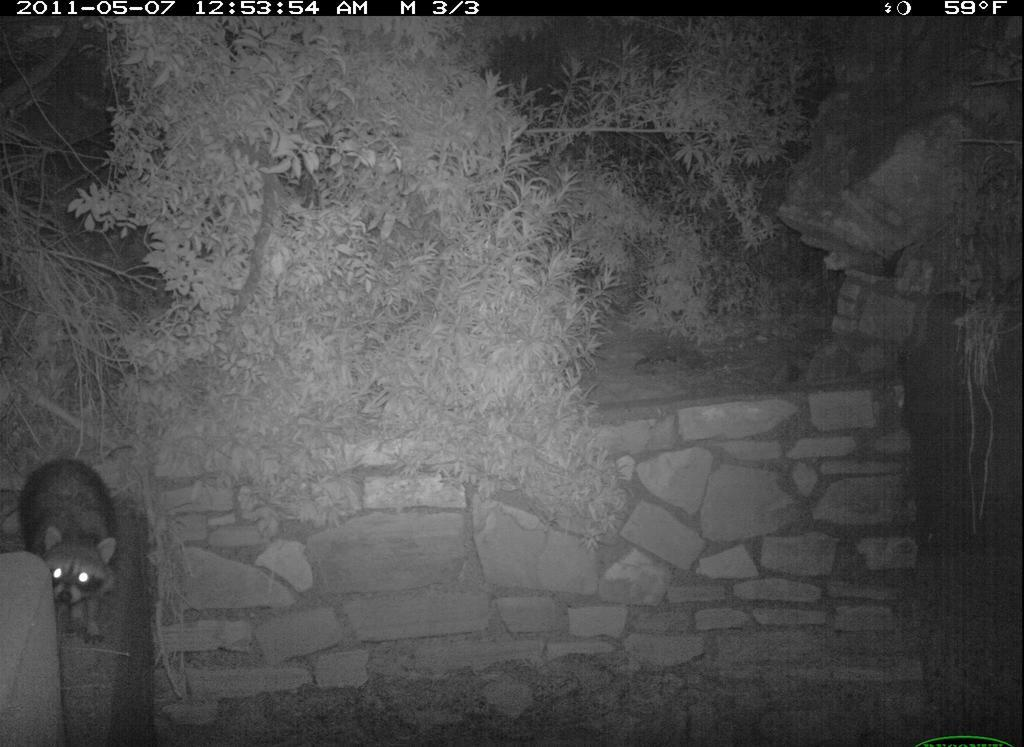raccoon: (15, 455, 131, 647)
